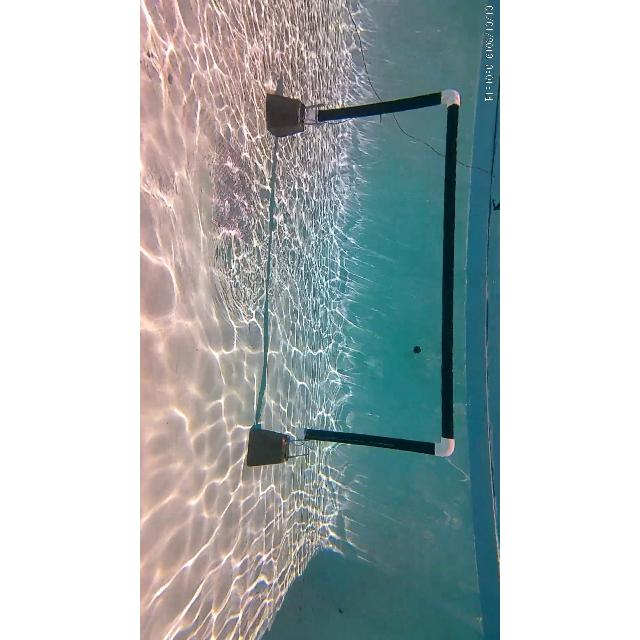prequal gate: (294, 88, 460, 460)
prequal gate leg r: (294, 411, 466, 459), (294, 86, 463, 126)
